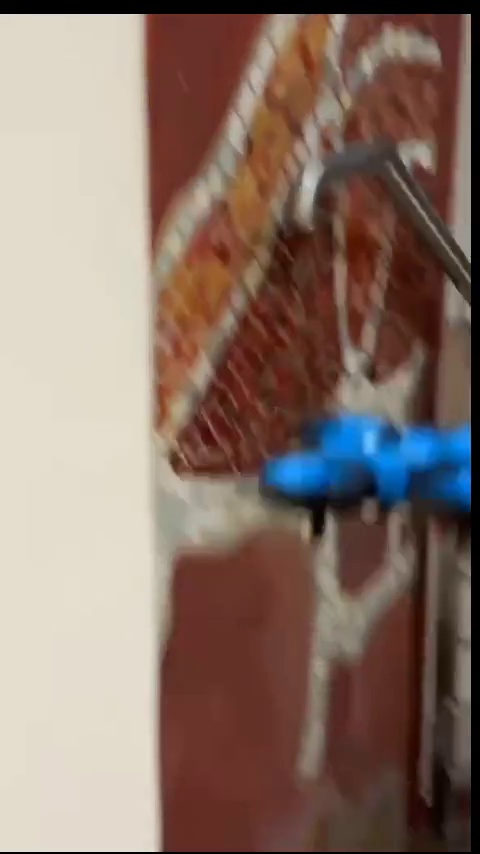drone: (259, 411, 476, 544)
